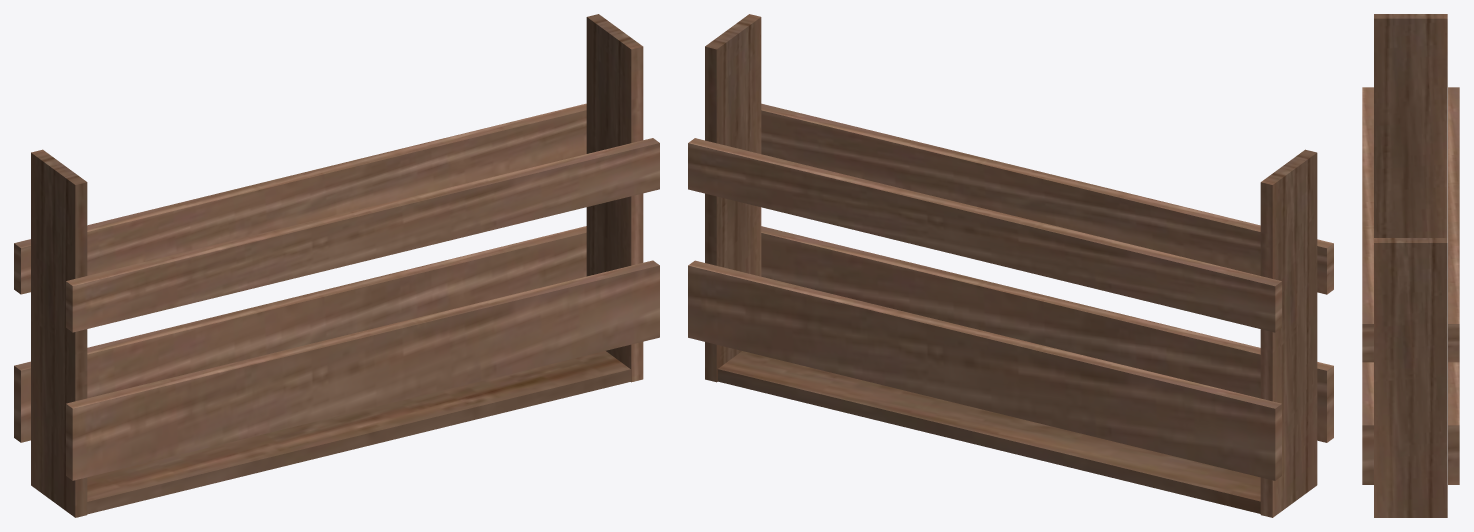
Rendered from frame.glb.
3 renders of one model, left to right at view 1: azimuth 30°, elevation 25°; view 2: azimuth 150°, elevation 25°; view 3: azimuth 270°, elevation 25°, orthographic. The views are drawn at different scales.
Parts seen in each view (by area): view 1: 枠; view 2: 枠; view 3: 枠.
Boxes of the visible parts, <box> form: 枠: <box>14,14,659,517</box>; 枠: <box>688,14,1333,517</box>; 枠: <box>1362,14,1459,517</box>.
Bounding box in the file's own units: 4.91 × 2.66 × 0.8519.
Materials: 1 (1 with a texture image).
